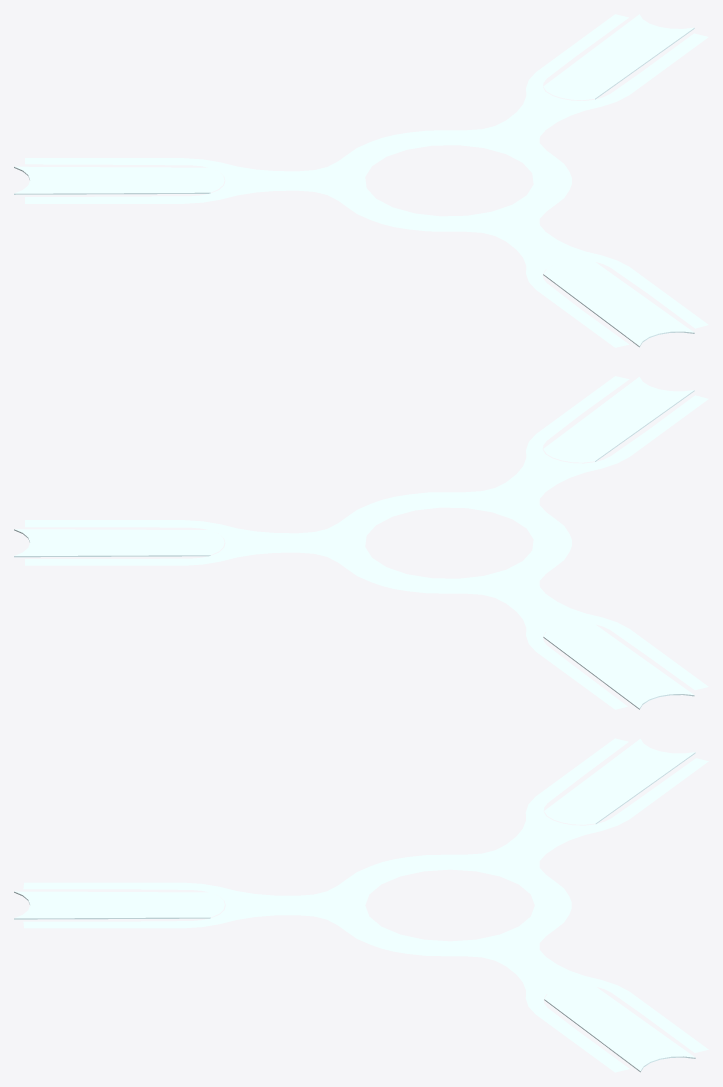
File: GrigioChiaro_P2.glb
The picture shows the model from 3 angles, top to bottom: view 1: azimuth 30°, elevation 25°; view 2: azimuth 150°, elevation 25°; view 3: azimuth 270°, elevation 25°; orthographic projection.
Visible parts, largest first — view 1: grigio_chiaro_P2_g; view 2: grigio_chiaro_P2_g; view 3: grigio_chiaro_P2_g.
Boxes of the visible parts, left/top/right/bottom form: grigio_chiaro_P2_g: left=14, top=14, right=708, bottom=347; grigio_chiaro_P2_g: left=14, top=376, right=708, bottom=709; grigio_chiaro_P2_g: left=14, top=738, right=708, bottom=1072.
Size of the model in its own units: 23.64 by 0.0382 by 20.78.
